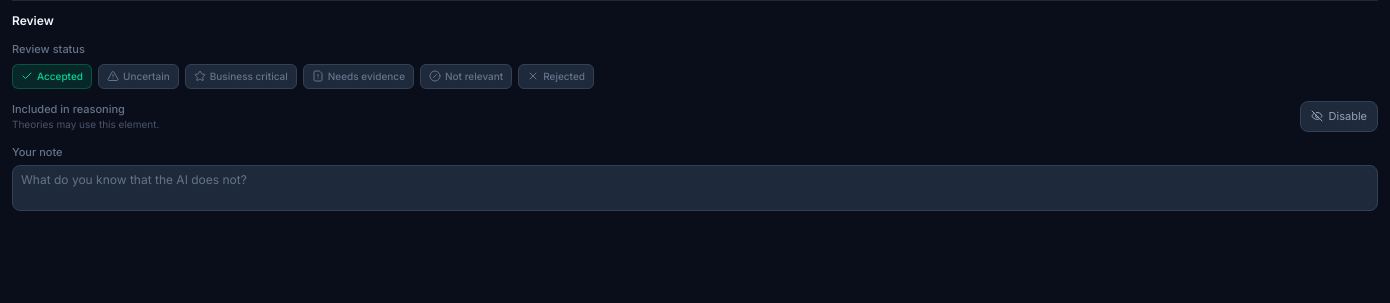
Scenario: ReviewControls destructive confirmation › can back out of a rejection
This screenshot has width=1390, height=303.
Click the button "Rejected".
click(556, 76)  # box [518,64,594,88]
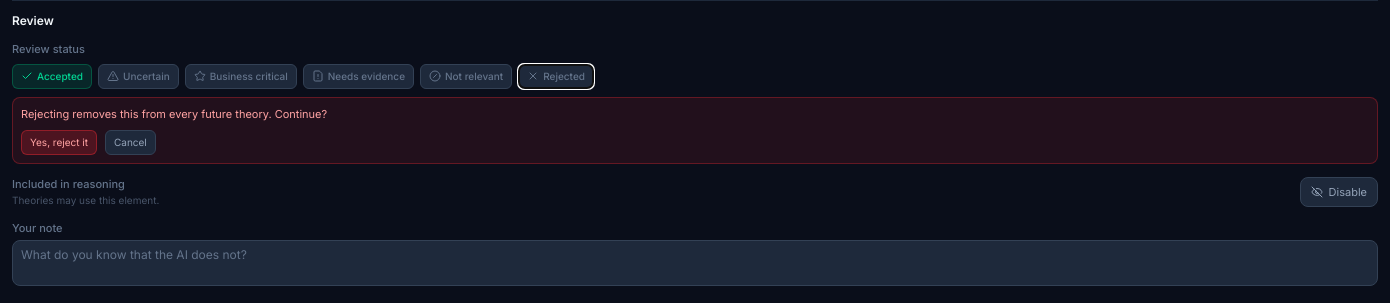
Click the button "Cancel".
click(130, 142)  # box [105,130,156,155]
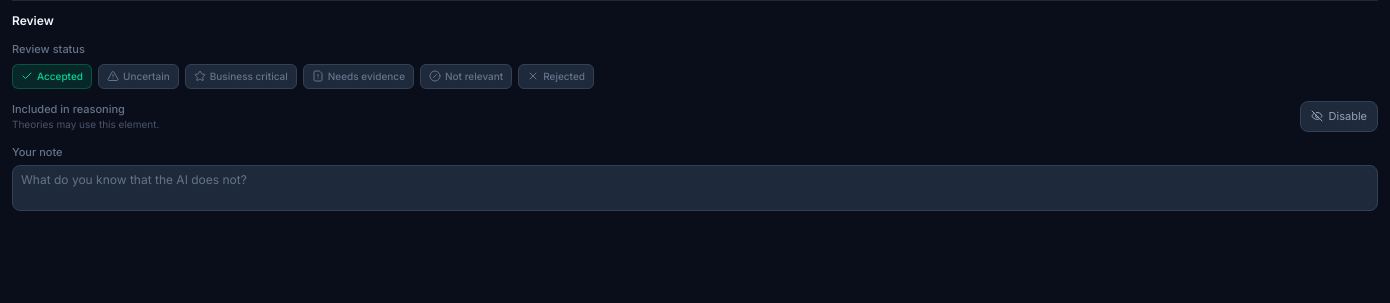
Now the text "removes this from every future theory" is gone
